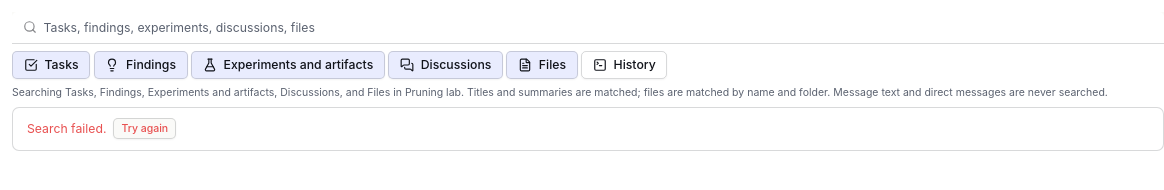
WorkspaceSearch › says a search failed and tries again
Expected: the message shows "Search failed.", [27,121,106,136]
Click the button "Try again" at (145, 128), box [113,118,176,139]
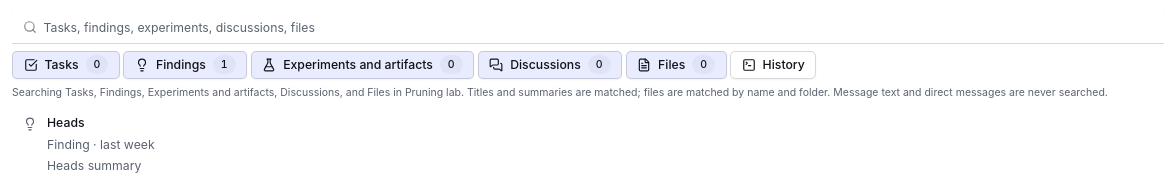
Now the option "Heads Finding · last week Heads summary" is shown, box [22,115,155,174]
